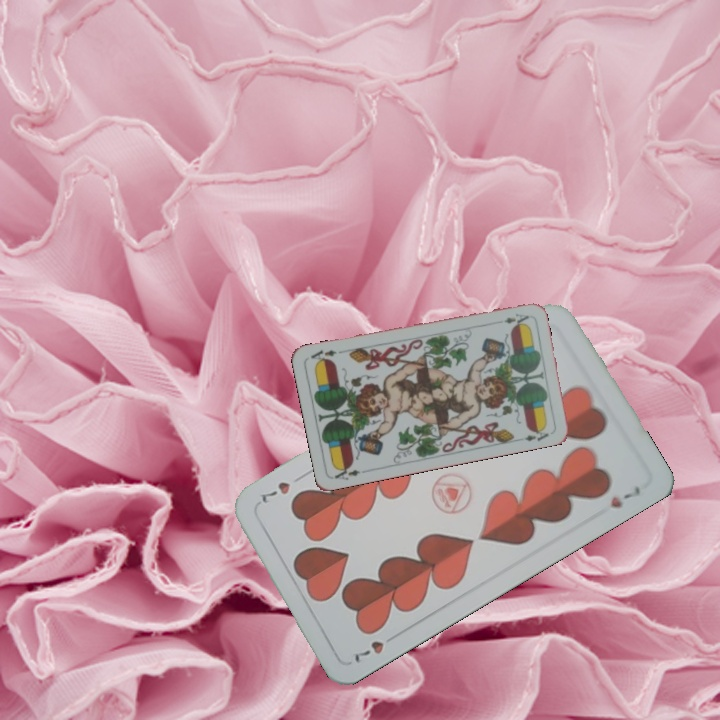EA: (330, 462, 370, 483), (500, 309, 531, 326)
H7: (348, 629, 401, 665)
